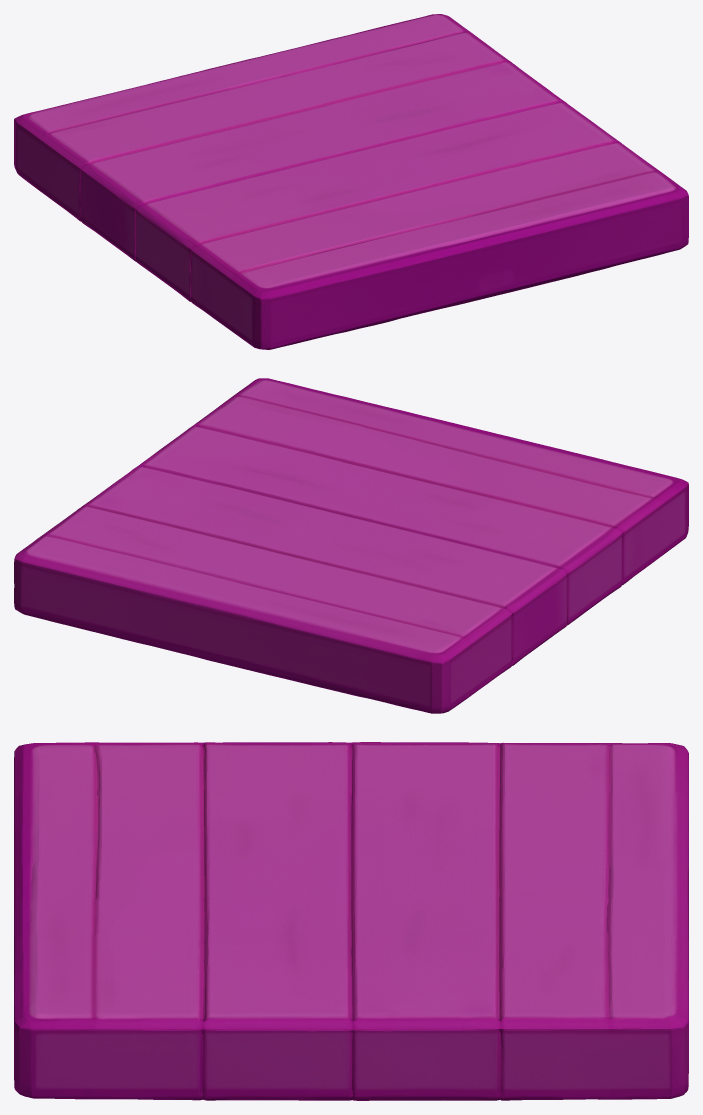
The picture shows the model from 3 angles, top to bottom: view 1: azimuth 30°, elevation 25°; view 2: azimuth 150°, elevation 25°; view 3: azimuth 270°, elevation 25°; orthographic projection. The views are drawn at different scales.
Visible parts, largest first — view 1: world; view 2: world; view 3: world.
Part boxes in pixels (x1=…): world: x1=14, y1=14, x2=688, y2=349; world: x1=14, y1=378, x2=688, y2=713; world: x1=14, y1=742, x2=688, y2=1100.
Size of the model in its own units: 100 by 13.61 by 100.
1 material, 1 textured.
